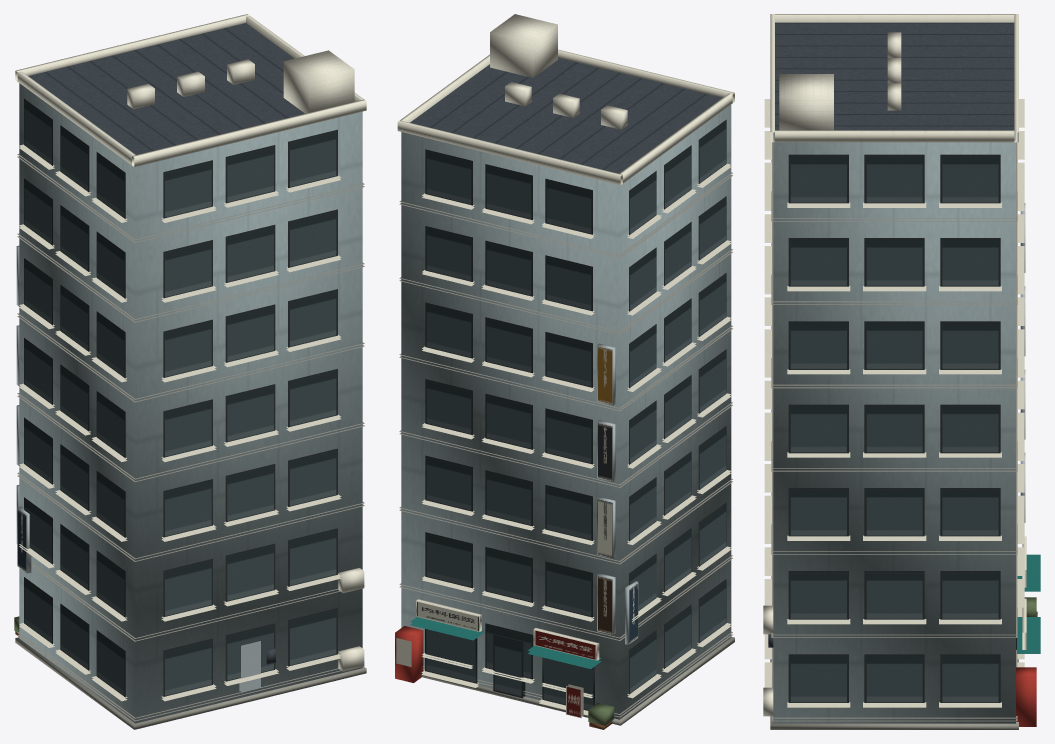
The model's file is shop_008.lod1.obj.
3 views of the same model, side by side, from view 1: azimuth 30°, elevation 25°; view 2: azimuth 150°, elevation 25°; view 3: azimuth 270°, elevation 25° (orthographic). The views are drawn at different scales.
Visible parts, largest first — view 1: shop_008; view 2: shop_008; view 3: shop_008.
Boxes of the visible parts, box(x1,y1,x2,y2) form: shop_008: box(14, 14, 366, 729); shop_008: box(395, 14, 734, 729); shop_008: box(763, 14, 1040, 729).
Bounding box in the file's own units: 9.67 × 23.05 × 9.2.
Materials: 1 (1 with a texture image).
